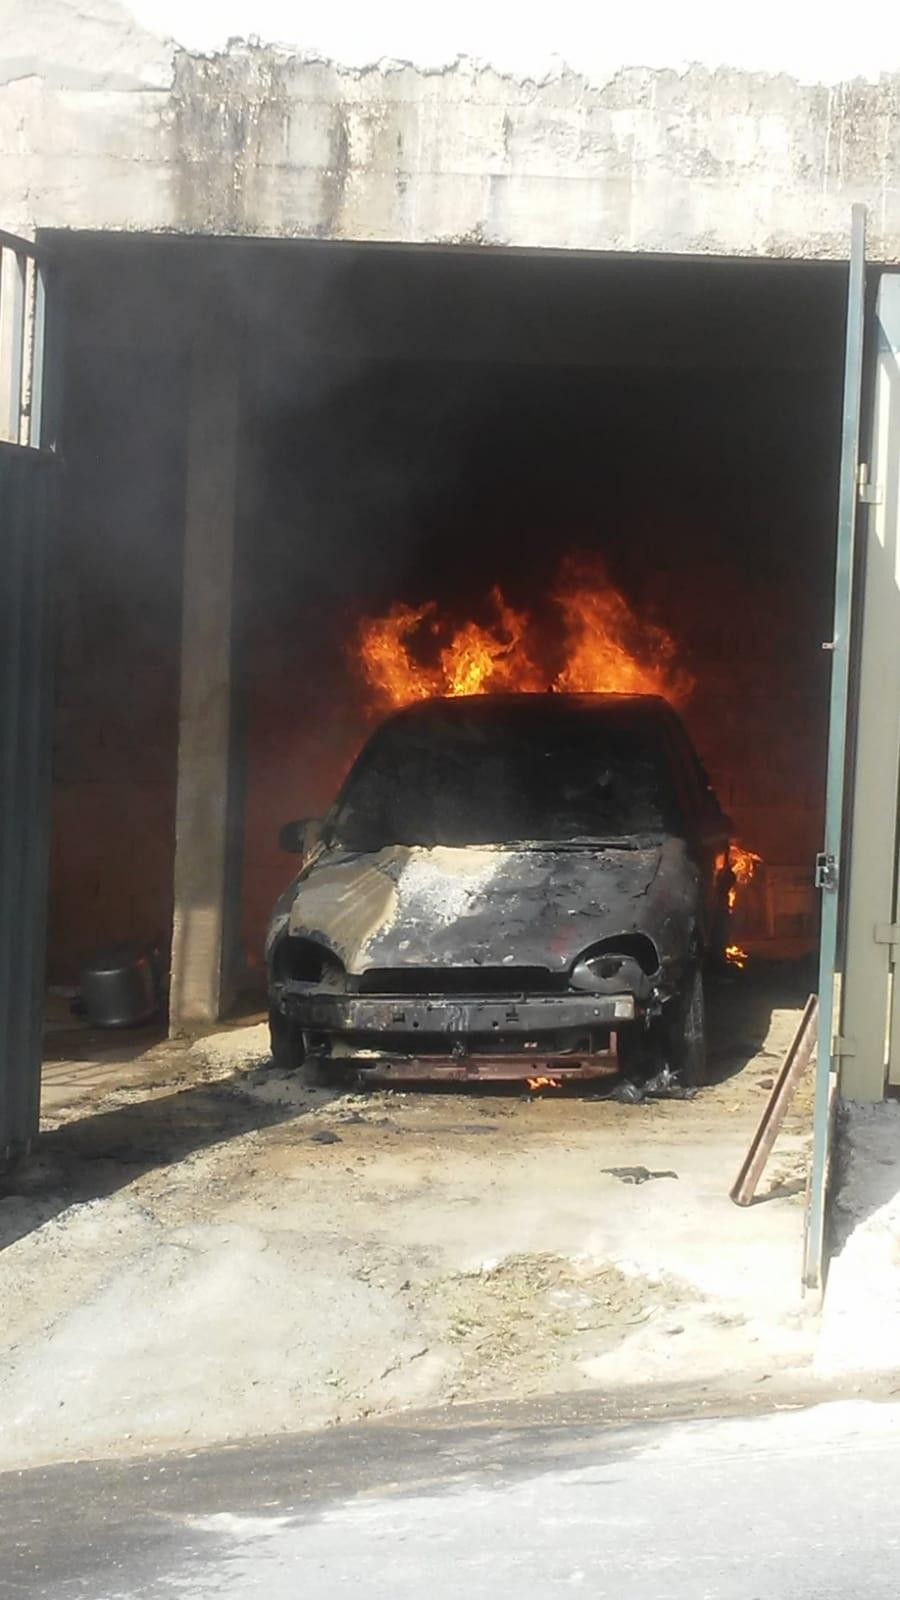Fire: (351, 543, 693, 711), (716, 832, 782, 903)
